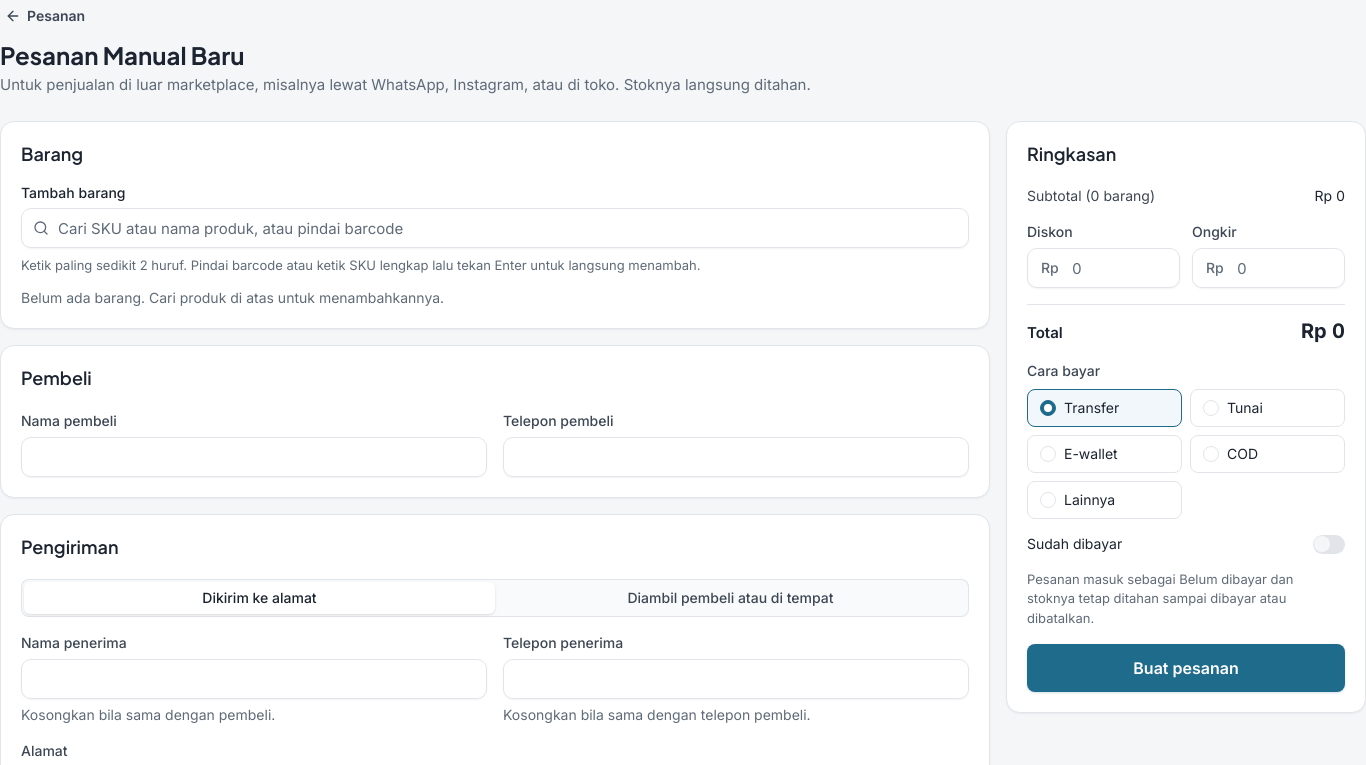
ManualOrderForm (FR-ORD-09) › says what is missing before sending anything
This screenshot has width=1366, height=765.
Click the button "Buat pesanan" at (1186, 668), box [1027,644,1345,692]
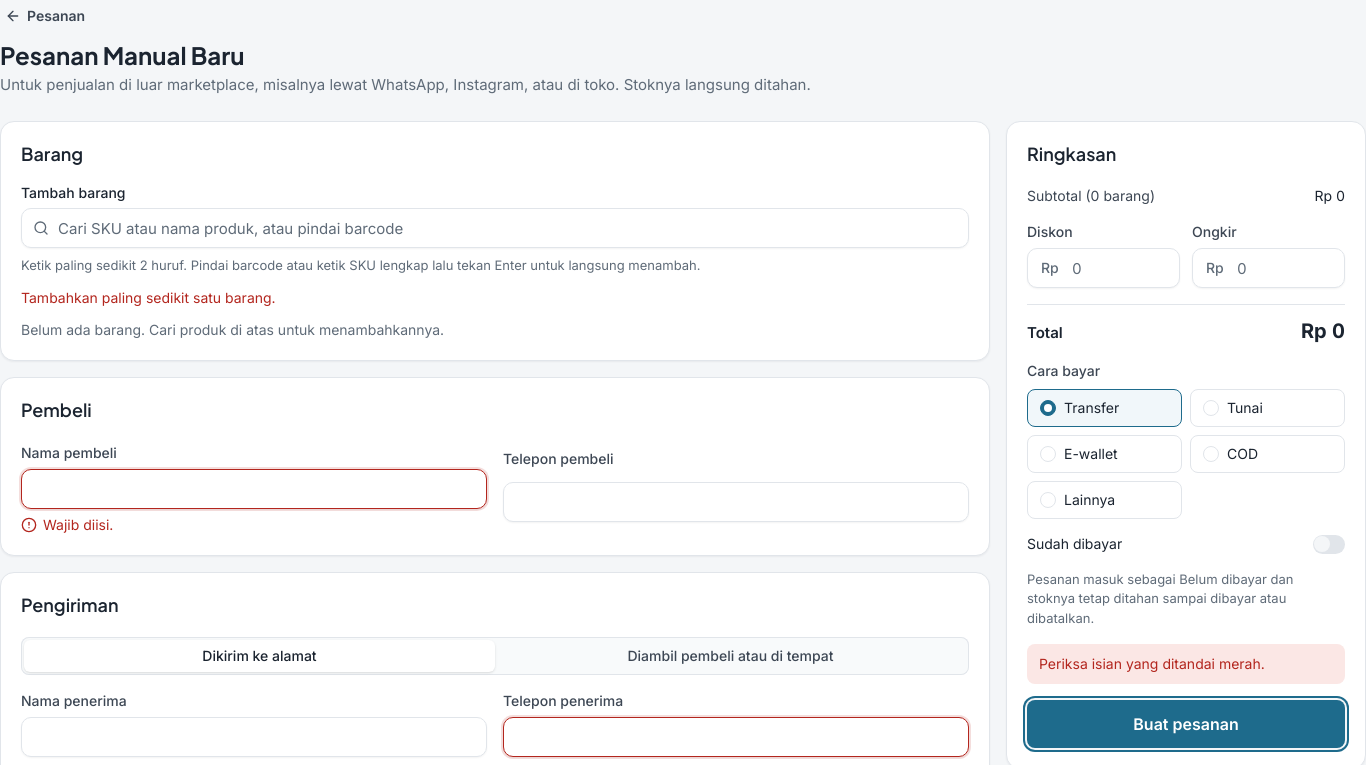
Check: the text "Tambahkan paling sedikit satu barang." is shown, box [21,289,276,306]
Check: the text "Periksa isian yang ditandai merah." is shown, box [1027,644,1345,684]
